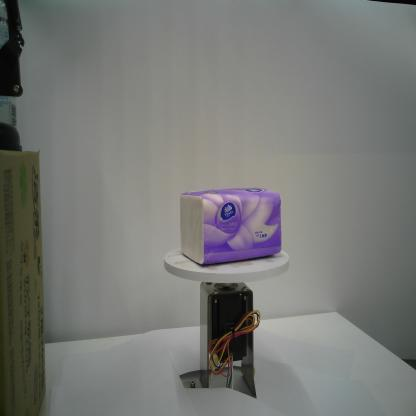Tissue: (177, 184, 284, 269)
